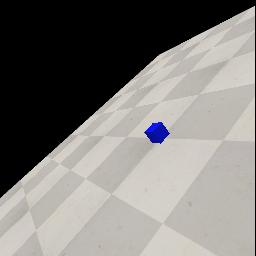box: (144, 122, 170, 144)
